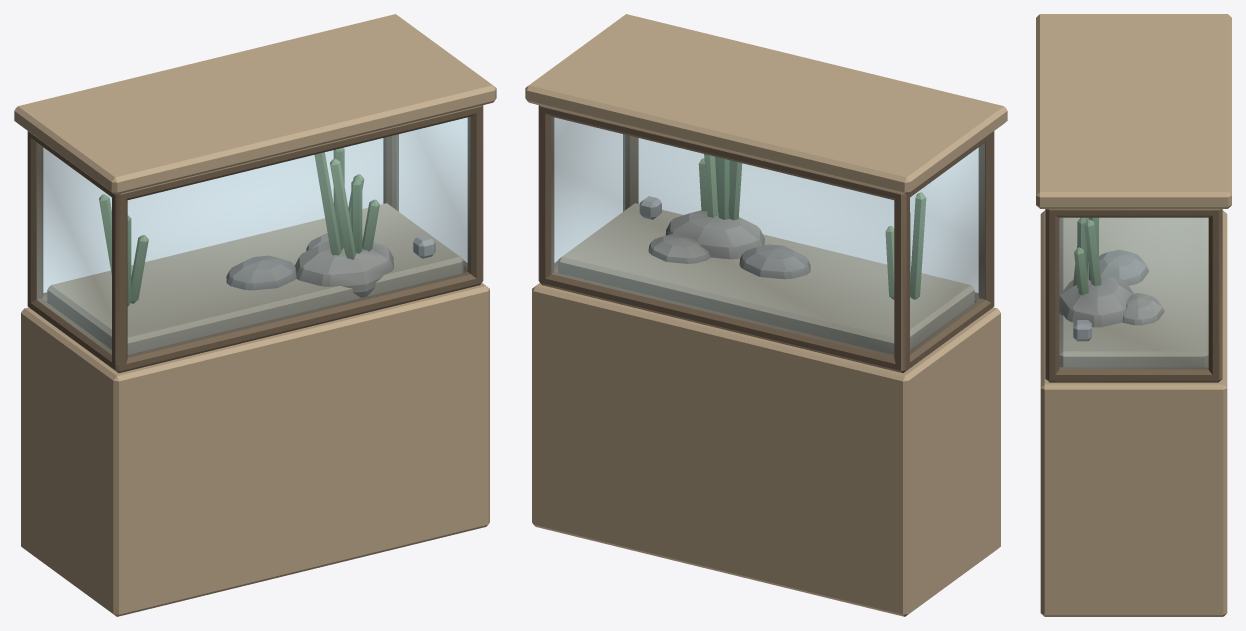
The model's file is furn_fish_tank__oak.glb.
3 views of the same model, side by side, from view 1: azimuth 30°, elevation 25°; view 2: azimuth 150°, elevation 25°; view 3: azimuth 270°, elevation 25° (orthographic). The views are drawn at different scales.
Bounding box in the file's own units: 0.92 × 1.01 × 0.42.
